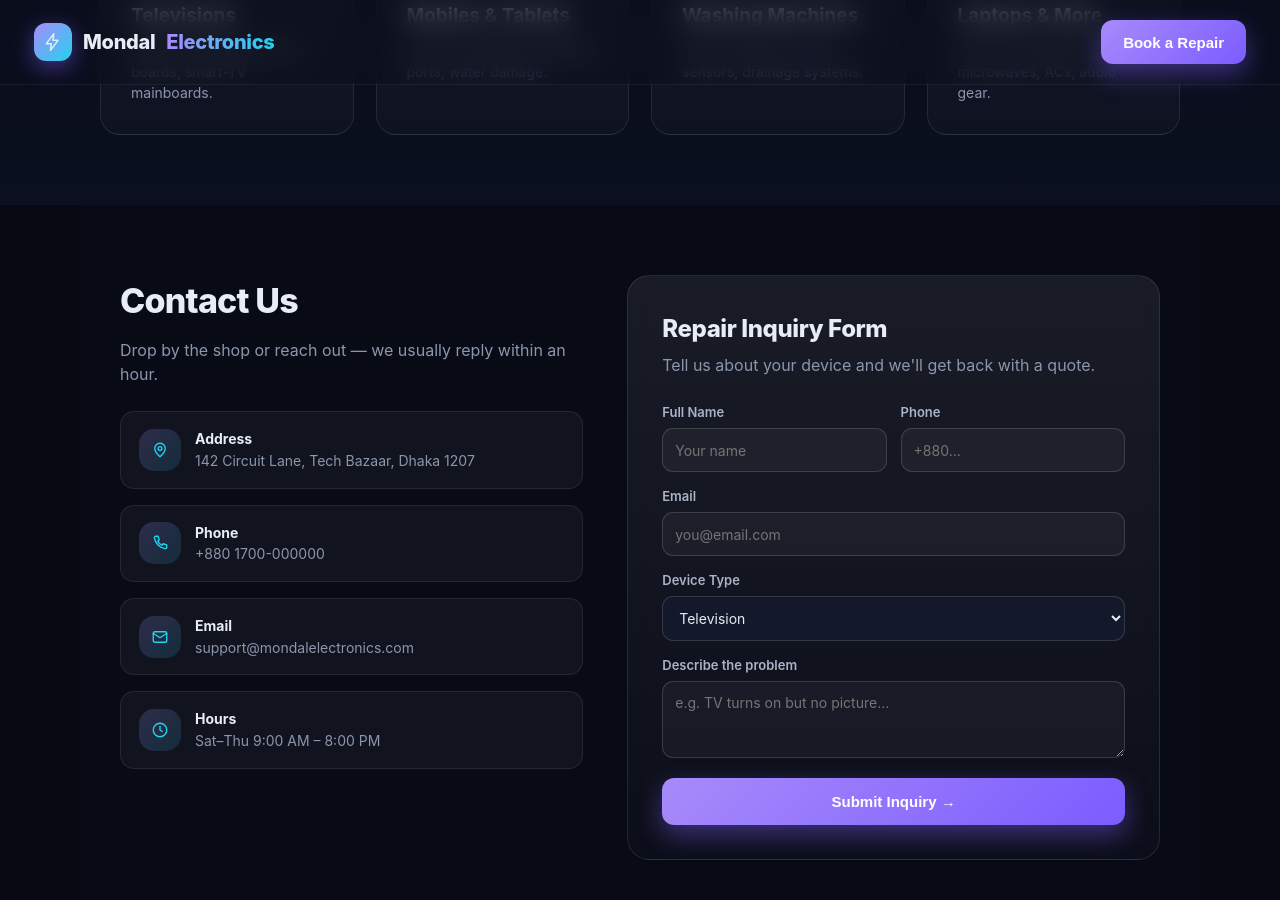
it: <App /> (integration) › submits the inquiry form and shows a success message
(page scrolled)
Type "Rahim" into the field with placeholder "Your name" at point(774, 450), box [662,428,887,472]
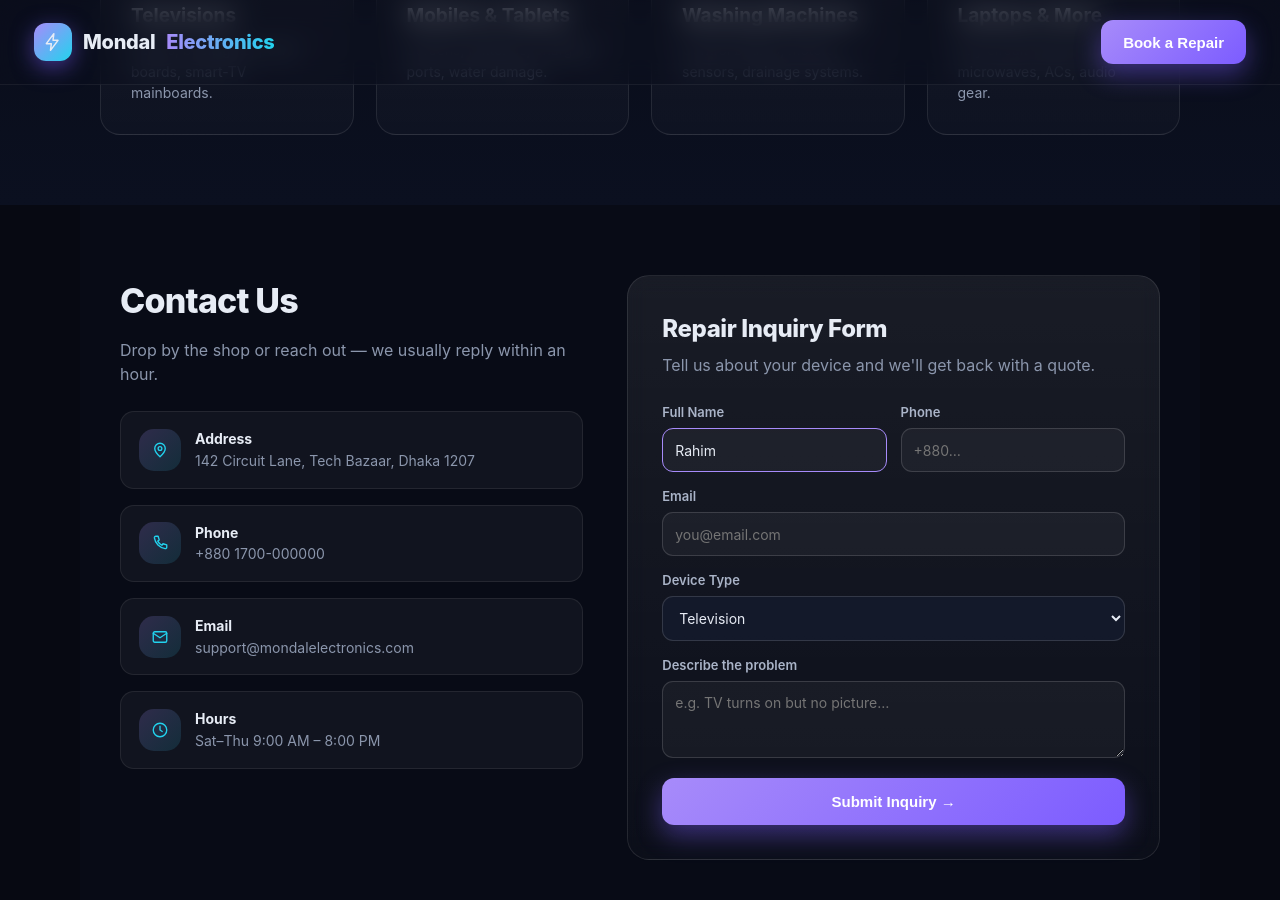
Type "+8801700000000" into the field with placeholder "+880…" at point(1013, 450), box [901,428,1125,472]
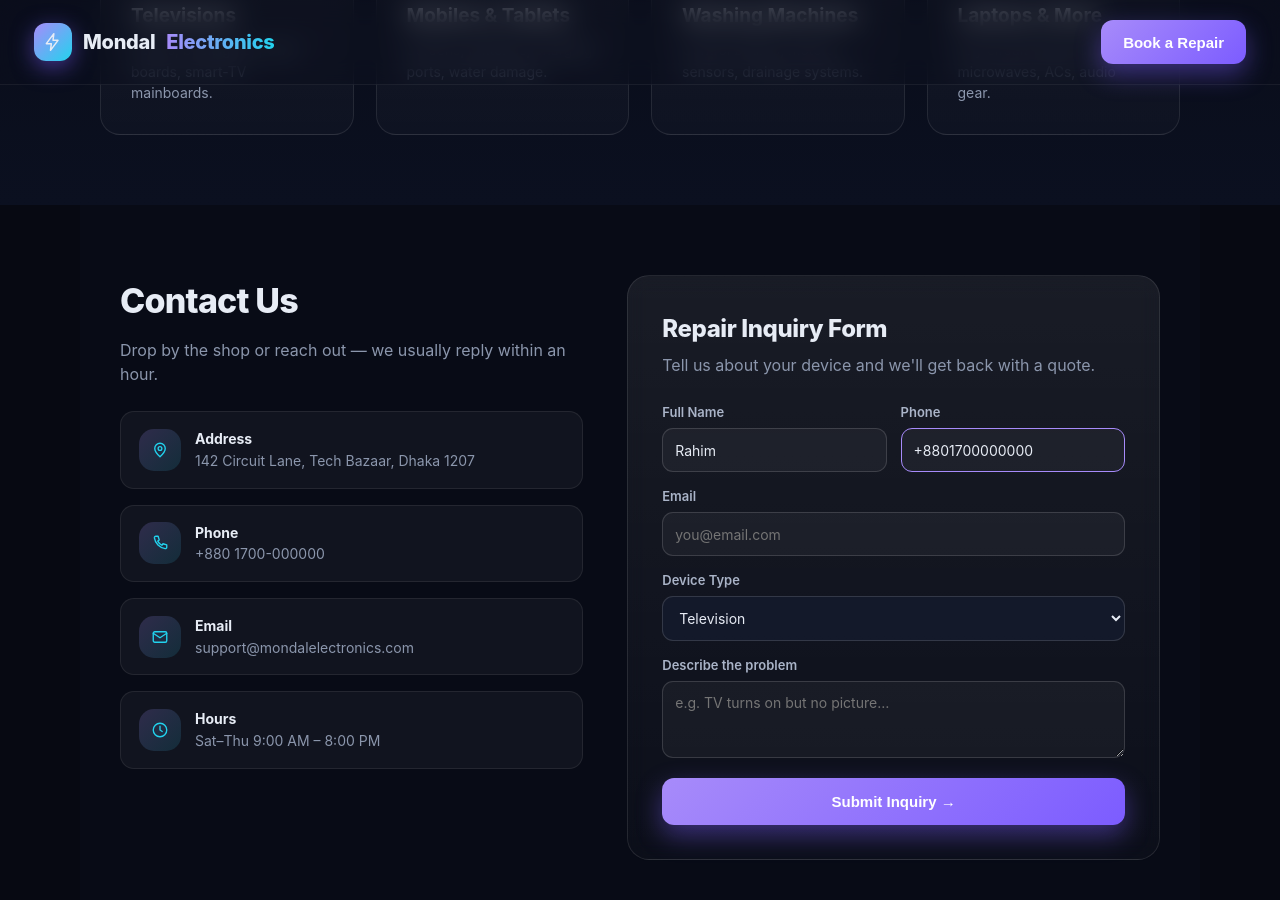
Type "No picture, has sound." into the text box with placeholder "e.g. TV turns on but no picture…" at point(894, 720), box [662,681,1125,758]
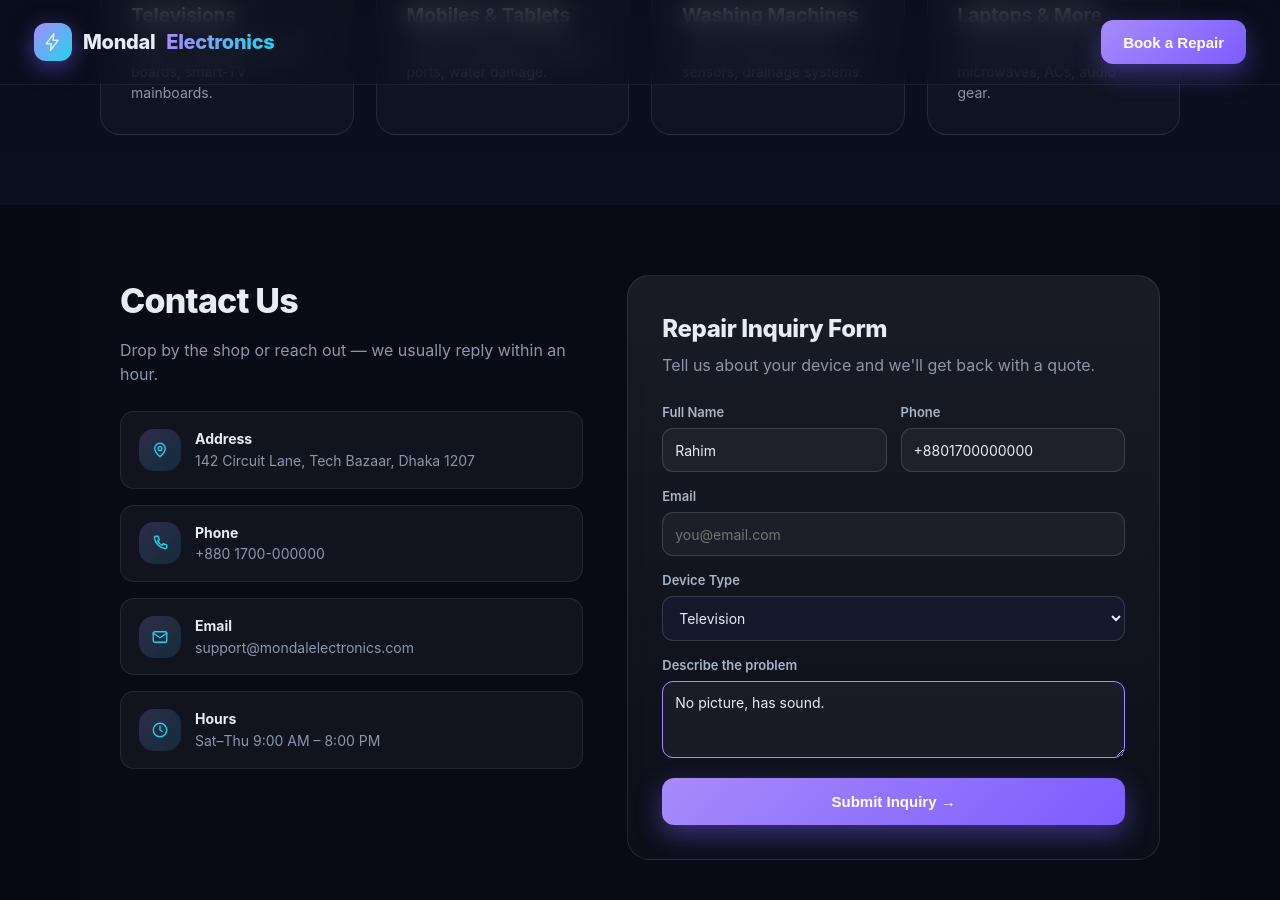
Click the button "Submit Inquiry →" at point(894, 802), box [662,778,1125,825]
(page scrolled)
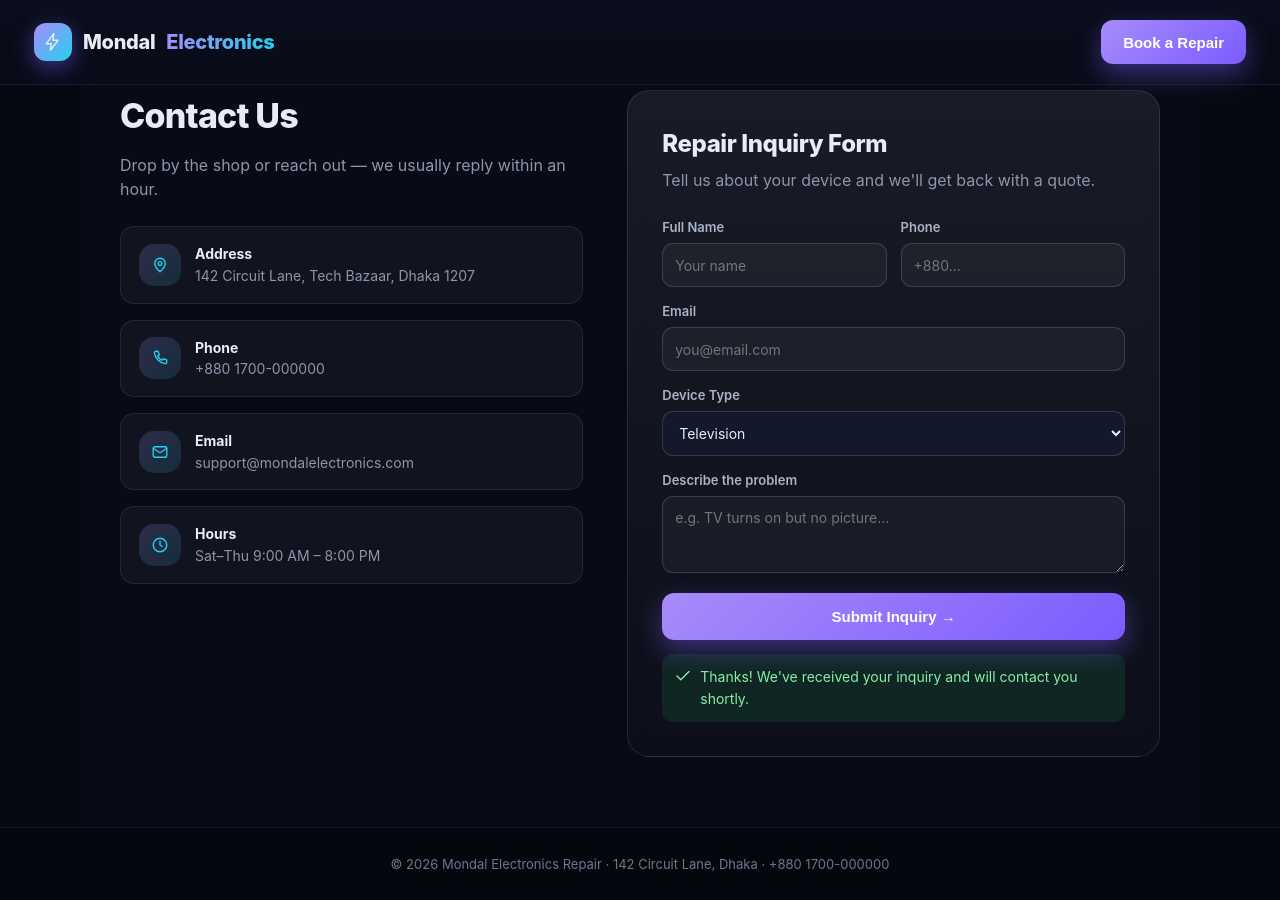
Expected: the text "We've received your inquiry" is shown, [700,668,1078,707]
